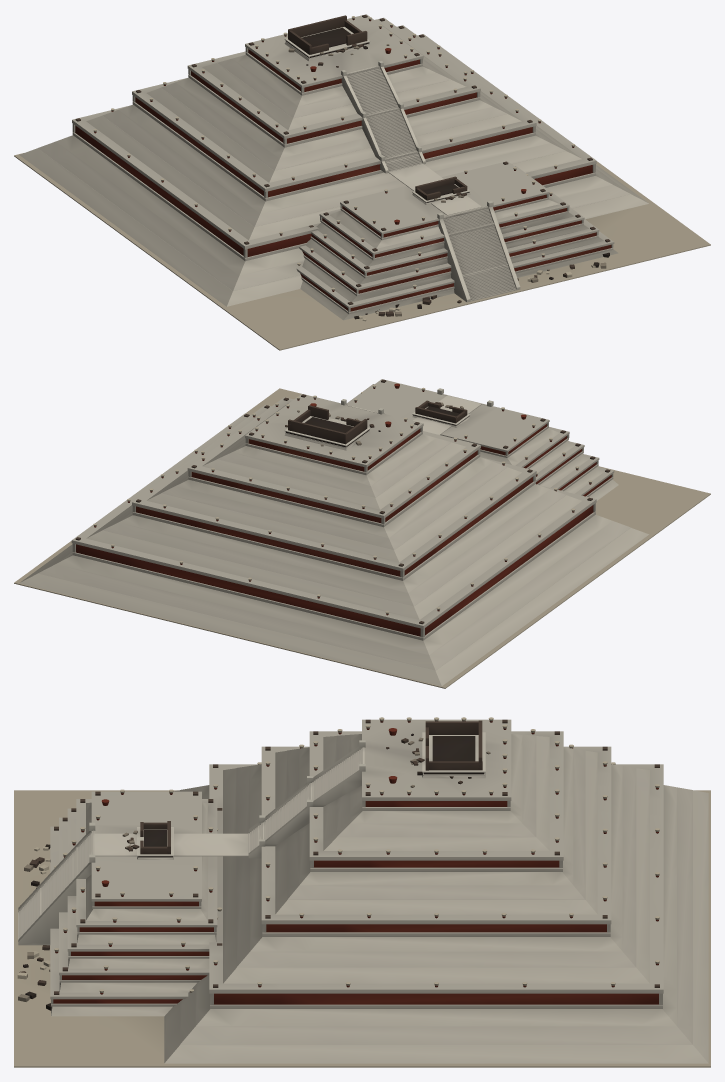
File: pyramid-of-the-moon-650.glb
The picture shows the model from 3 angles, top to bottom: view 1: azimuth 30°, elevation 25°; view 2: azimuth 150°, elevation 25°; view 3: azimuth 270°, elevation 25°; orthographic projection. The views are drawn at different scales.
Parts seen in each view (by area): view 1: p1_pyramid, p2_temple, p0_ground; view 2: p1_pyramid, p0_ground, p2_temple; view 3: p1_pyramid, p2_temple, p0_ground.
Boxes of the visible parts, x1,y1,x2,y2 form: p1_pyramid: [19, 14, 648, 320]; p2_temple: [75, 14, 610, 321]; p0_ground: [14, 153, 710, 350]; p1_pyramid: [19, 379, 648, 686]; p0_ground: [14, 388, 710, 688]; p2_temple: [75, 379, 610, 624]; p1_pyramid: [50, 719, 708, 1063]; p2_temple: [17, 717, 659, 1010]; p0_ground: [14, 790, 710, 1067].
Size of the model in its own units: 150 by 48.22 by 160.
